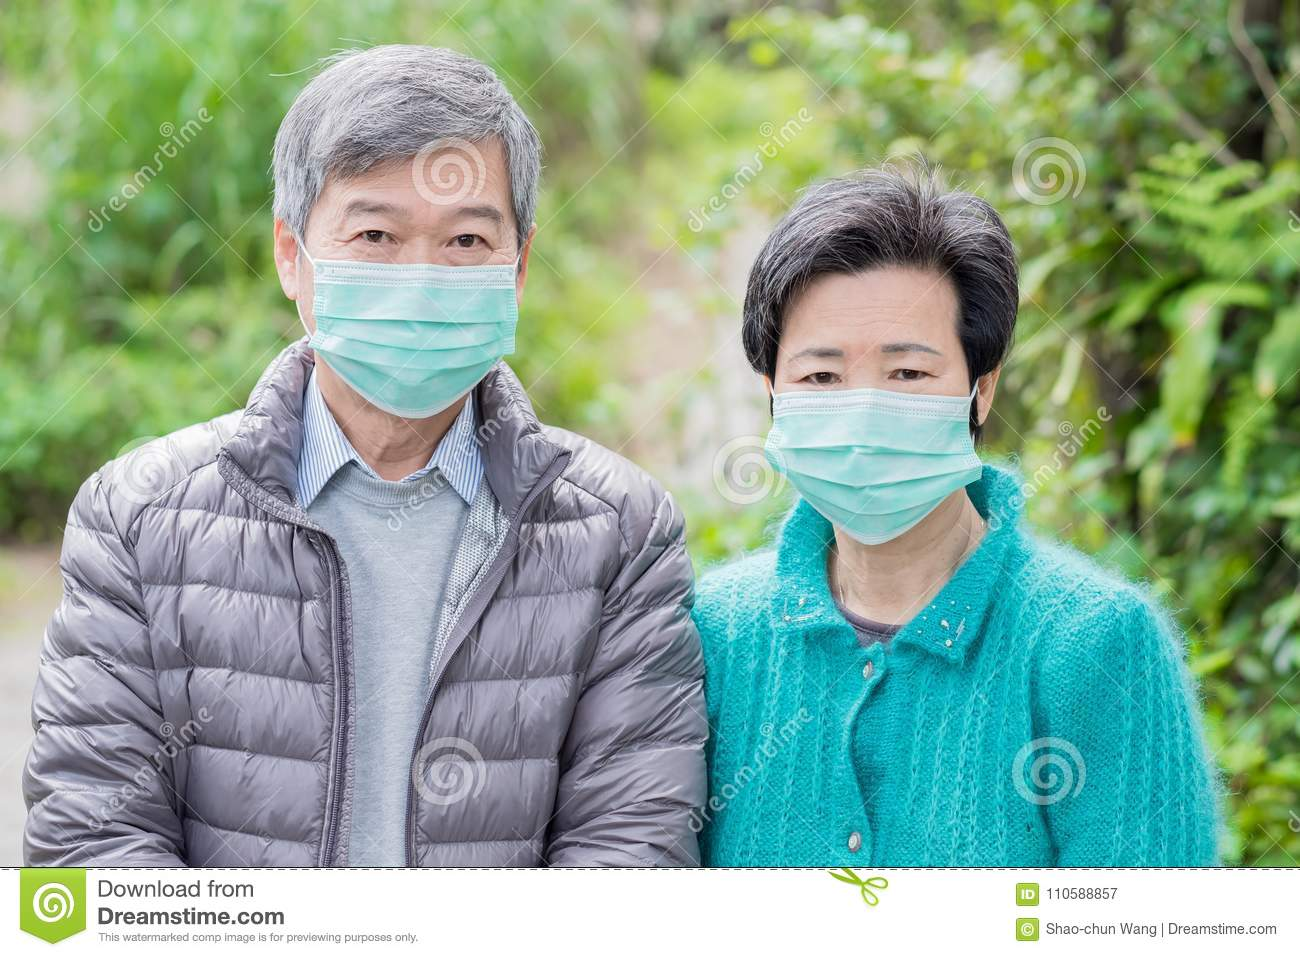mask: (763, 371, 969, 551), (314, 263, 539, 420)
